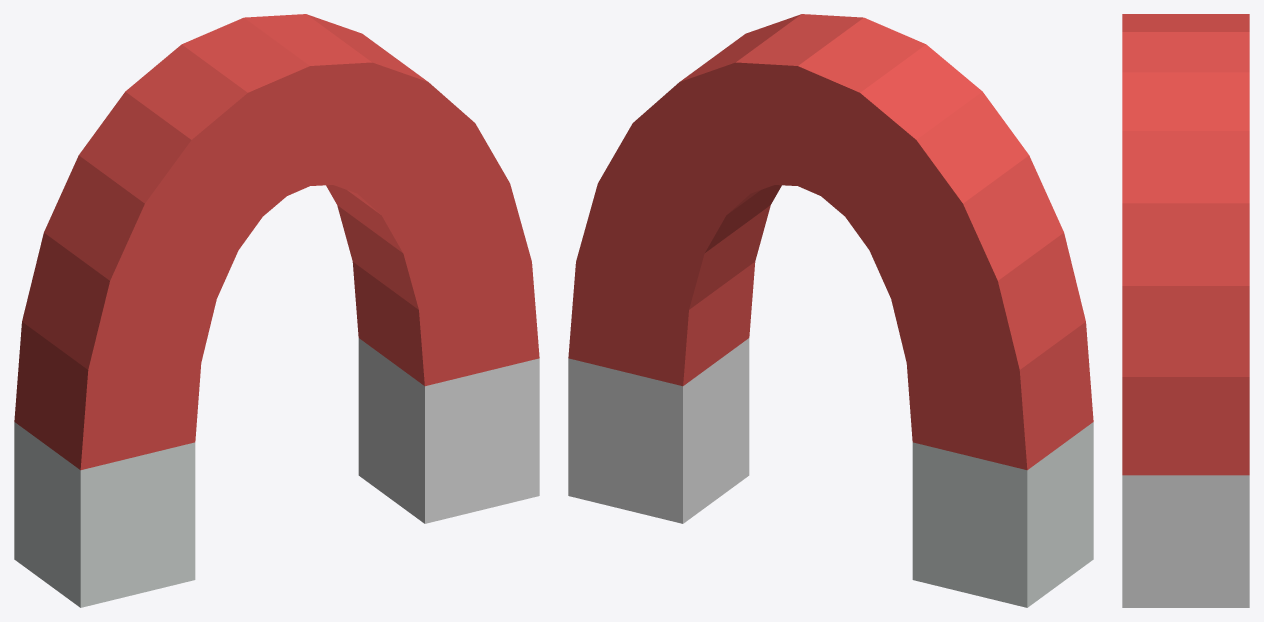
Rendered from magneted.fbx.
3 views of the same model, side by side, from view 1: azimuth 30°, elevation 25°; view 2: azimuth 150°, elevation 25°; view 3: azimuth 270°, elevation 25° (orthographic). The views are drawn at different scales.
Parts seen in each view (by area): view 1: Cube.001, Cube.002, Cube.003; view 2: Cube.001, Cube.002, Cube.003; view 3: Cube.001, Cube.003.
Part boxes in pixels (bbox=[...]): Cube.001: bbox=[14, 14, 539, 470]; Cube.002: bbox=[14, 422, 195, 607]; Cube.003: bbox=[358, 338, 539, 523]; Cube.001: bbox=[568, 14, 1093, 470]; Cube.002: bbox=[912, 422, 1093, 607]; Cube.003: bbox=[568, 338, 749, 523]; Cube.001: bbox=[1122, 14, 1249, 475]; Cube.003: bbox=[1122, 475, 1249, 607].
Size of the model in its own units: 800 by 809 by 200.
